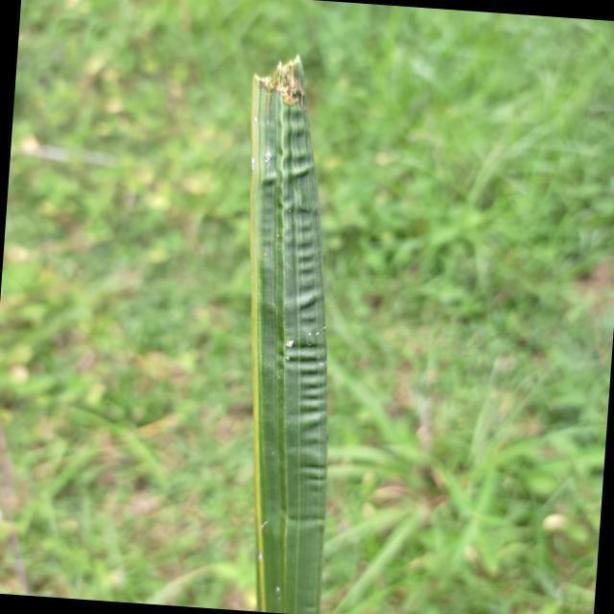Boron: (246, 46, 329, 614)
